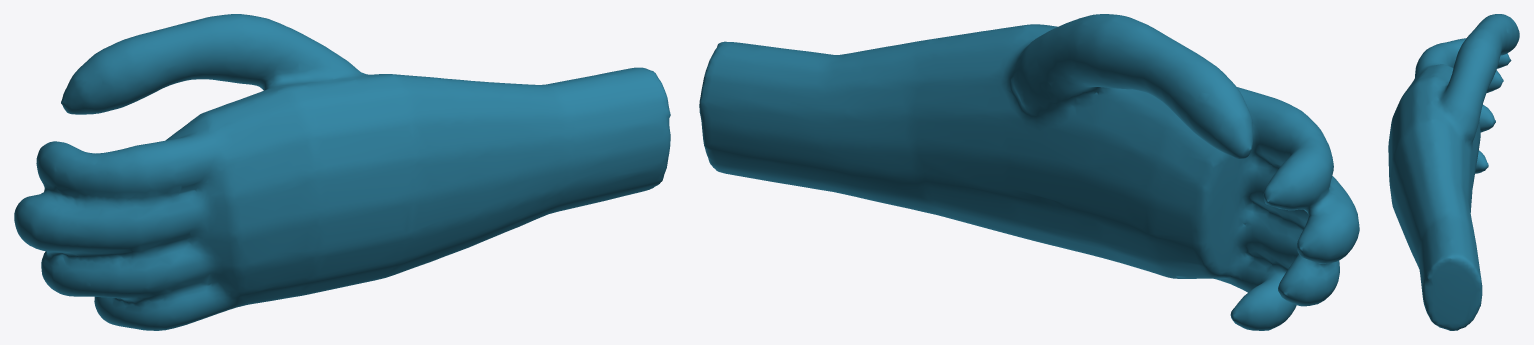
Rendered from glove.glb.
The picture shows the model from 3 angles, left to right: view 1: azimuth 30°, elevation 25°; view 2: azimuth 150°, elevation 25°; view 3: azimuth 270°, elevation 25°; orthographic projection. The views are drawn at different scales.
Parts seen in each view (by area): view 1: Instrument grip; view 2: Instrument grip; view 3: Instrument grip.
Part boxes in pixels (x1=…): Instrument grip: x1=14, y1=14, x2=670, y2=330; Instrument grip: x1=699, y1=14, x2=1359, y2=330; Instrument grip: x1=1388, y1=14, x2=1519, y2=330.
Size of the model in its own units: 0.7416 by 0.307 by 0.2053.
